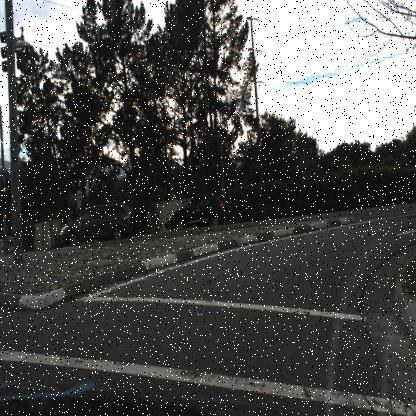car: (57, 202, 134, 245), (164, 190, 226, 232)
trafficLight-Red: (2, 187, 7, 205)
